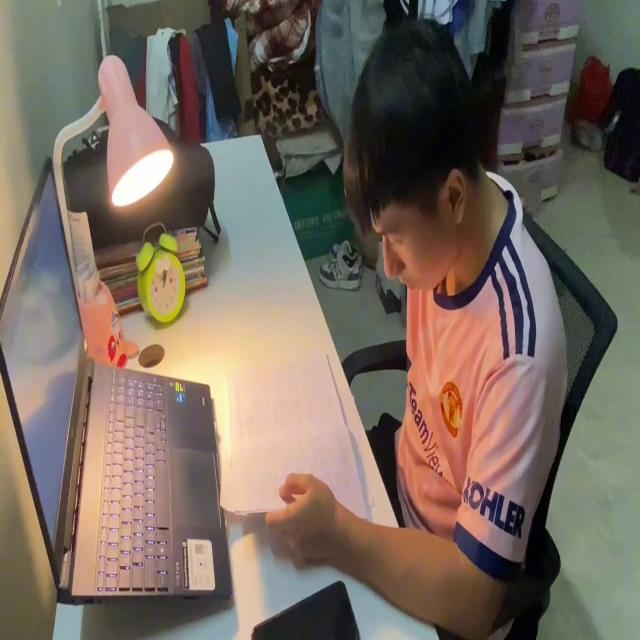book: (214, 340, 368, 523)
laptop: (0, 150, 235, 605)
phone: (249, 575, 365, 640)
student: (263, 11, 568, 640)
